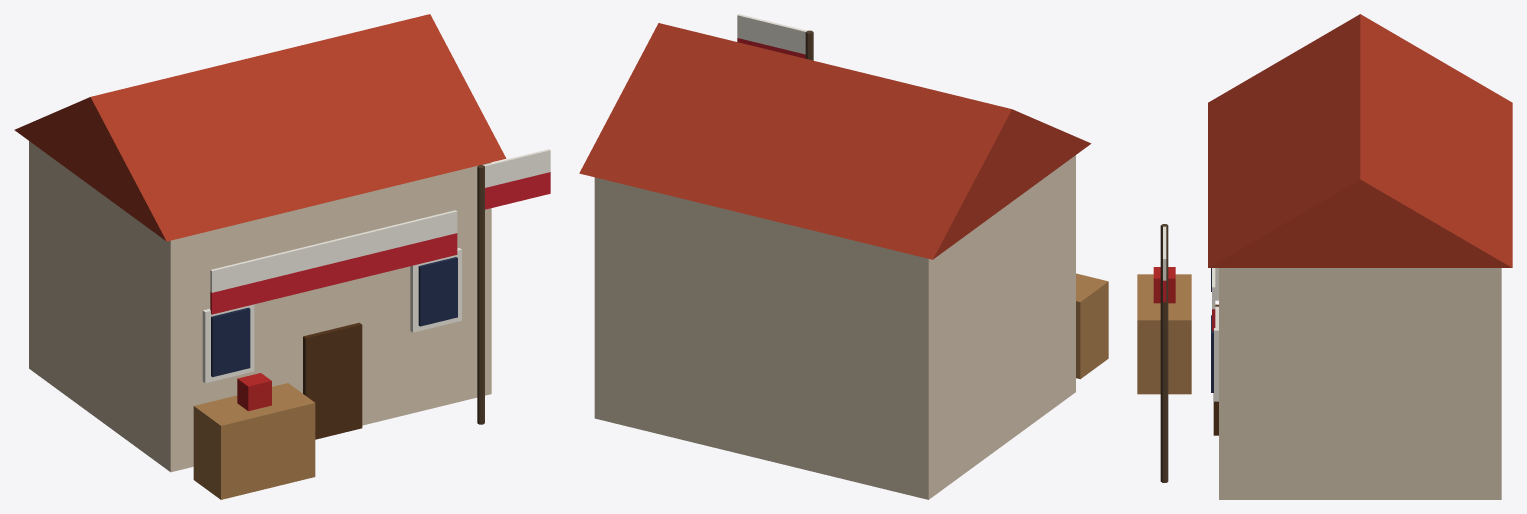
Rendered from komitet.glb.
3 views of the same model, side by side, from view 1: azimuth 30°, elevation 25°; view 2: azimuth 150°, elevation 25°; view 3: azimuth 270°, elevation 25° (orthographic). The views are drawn at different scales.
Parts seen in each view (by area): view 1: komitet; view 2: komitet; view 3: komitet.
Part boxes in pixels (bbox=[...]): komitet: bbox=[14, 14, 550, 499]; komitet: bbox=[579, 14, 1108, 499]; komitet: bbox=[1137, 14, 1512, 499].
Size of the model in its own units: 3.83 by 3.3 by 3.45.
